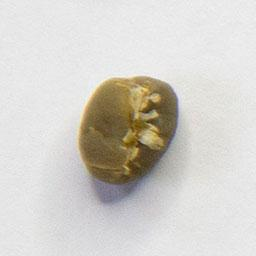peaberry: (74, 71, 182, 188)
